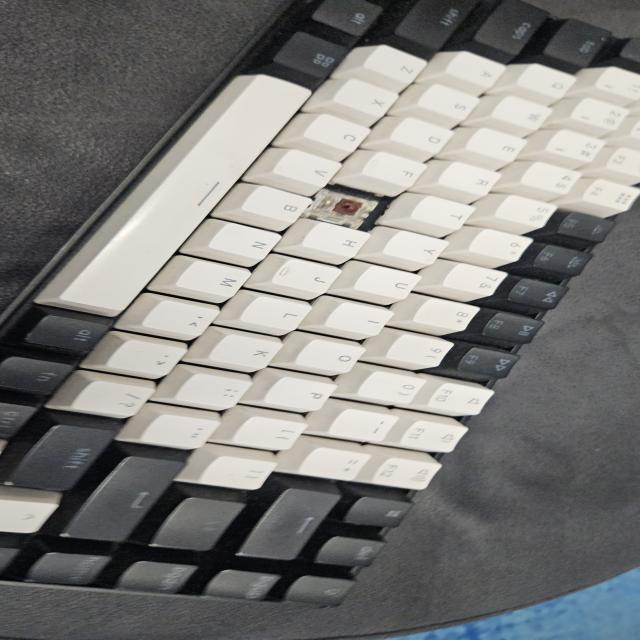C: (322, 195, 374, 221)
